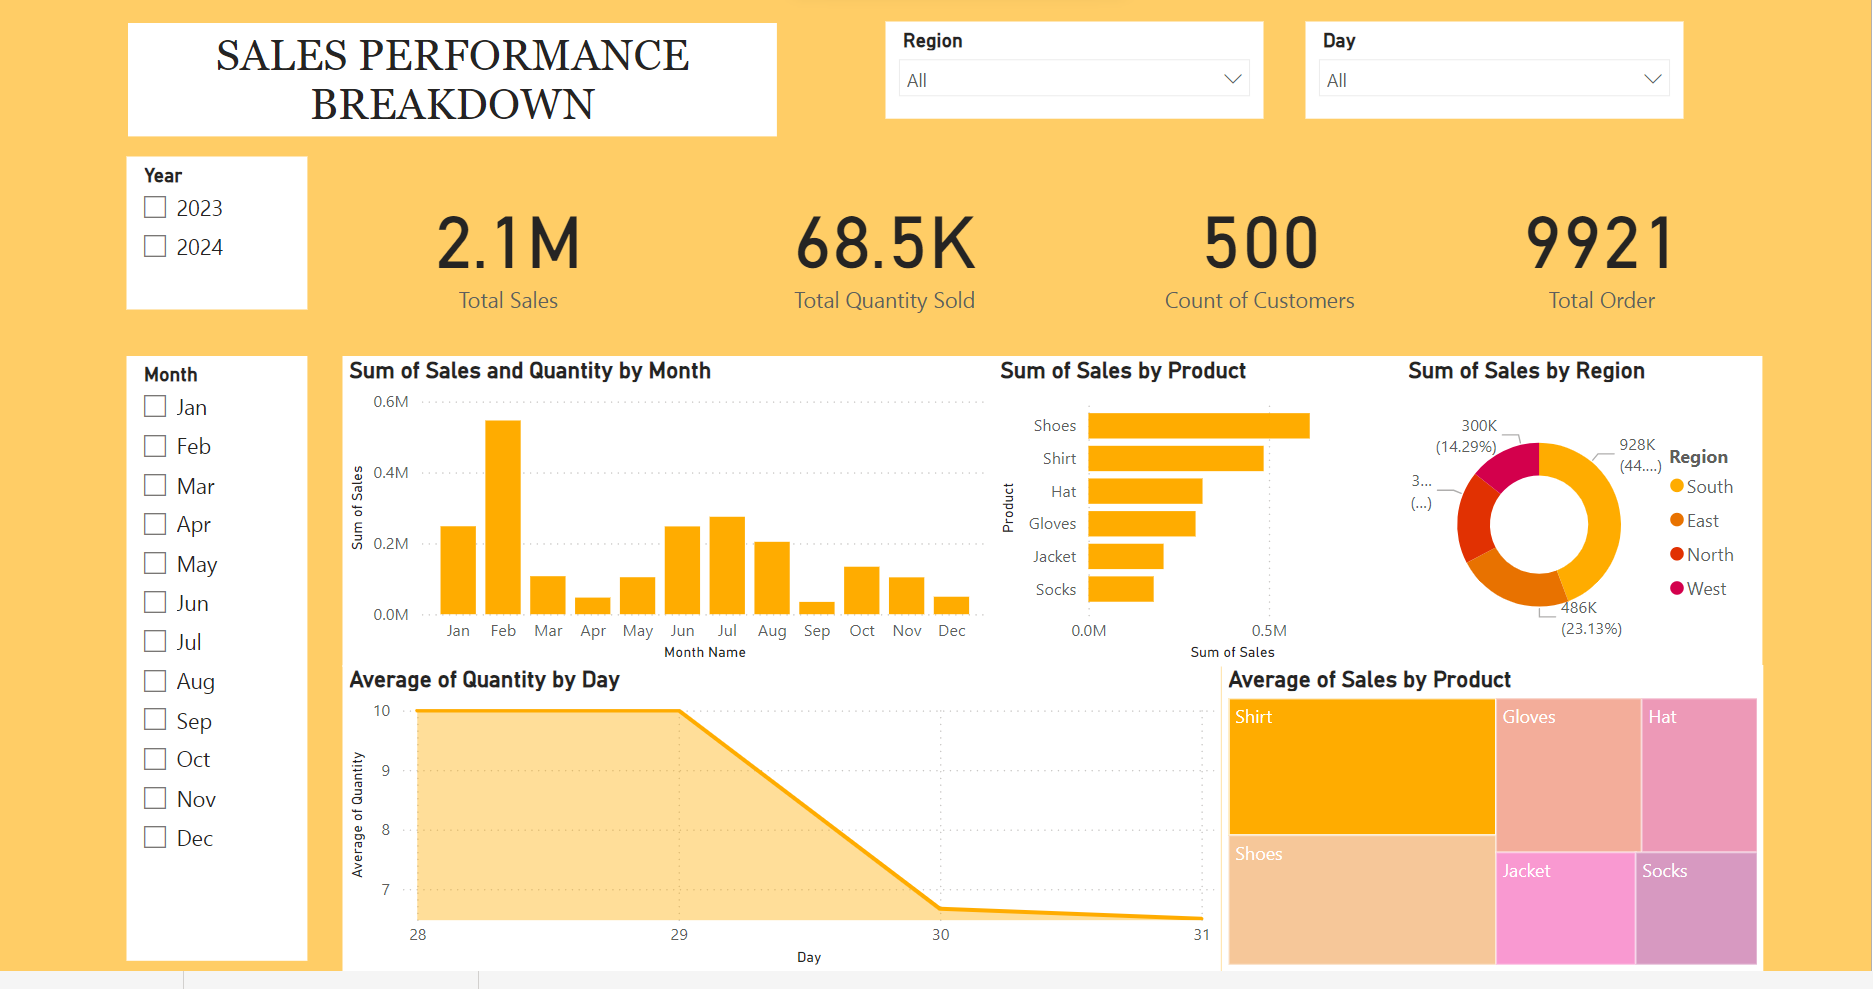

Layout of this report page (visuals, bound fields, positions):
{"tool":"powerbi","page":{"name":"Page 1","canvas":[1280,720],"ordinal":0},"visuals":[{"type":"slicer","fields":{"Values":["SalesData.Year"]},"box":[41.6,117.2,134.2,113.4],"z":0},{"type":"slicer","fields":{"Values":["SalesData.Region"]},"box":[602.8,17,279.7,71.8],"z":1000},{"type":"slicer","fields":{"Values":["SalesData.Day Name"]},"box":[914.6,17,279.7,71.8],"z":2000},{"type":"slicer","fields":{"Values":["SalesData.Month Name"]},"box":[41.6,264.6,134.2,447.9],"z":3000},{"type":"card","fields":{"Values":["SalesData.Sum Total"]},"box":[204.1,117.2,238.1,134.2],"z":4000},{"type":"card","fields":{"Values":["Sum(SalesData.Quantity)"]},"box":[483.8,117.2,238.1,134.2],"z":5000},{"type":"card","fields":{"Values":["Count(SalesData.Customer Id)"]},"box":[761.6,117.2,238.1,134.2],"z":6000},{"type":"card","fields":{"Values":["CountNonNull(SalesData.OrderID)"]},"box":[1014.8,117.2,238.1,134.2],"z":7000},{"type":"columnChart","title":"Sum of Sales and Quantity by Month","fields":{"Category":["SalesData.Month Name"],"Y":["Sum(SalesData.Sales)"]},"box":[200.8,263.9,482.5,229.9],"z":8000},{"type":"clusteredBarChart","fields":{"Category":["SalesData.Product"],"Y":["Sum(SalesData.Sales)"]},"box":[683.3,263.9,302.8,229.9],"z":9000},{"type":"donutChart","fields":{"Category":["SalesData.Region"],"Y":["Sum(SalesData.Sales)"]},"box":[986.1,263.9,267.2,229.9],"z":10000},{"type":"areaChart","fields":{"Category":["SalesData.Day"],"Y":["Avg(SalesData.Quantity)"]},"box":[200.8,493.9,650.9,226.7],"z":11000},{"type":"treemap","fields":{"Group":["SalesData.Product"],"Values":["Avg(SalesData.Sales)"]},"box":[851.7,493.9,401.6,226.7],"z":12000},{"type":"textbox","box":[42.1,17.8,480.9,84.2],"z":13000}]}

Visuals, with their boxes in screenshot pixels (x1, y1, x2, y2):
slicer - SalesData.Year: <box>120,174,302,327</box>
slicer - SalesData.Region: <box>881,38,1260,135</box>
slicer - SalesData.Day Name: <box>1304,38,1683,135</box>
slicer - SalesData.Month Name: <box>120,373,302,981</box>
card - SalesData.Sum Total: <box>340,174,663,356</box>
card - Sum(SalesData.Quantity): <box>720,174,1042,356</box>
card - Count(SalesData.Customer Id): <box>1096,174,1419,356</box>
card - CountNonNull(SalesData.OrderID): <box>1440,174,1763,356</box>
"Sum of Sales and Quantity by Month" columnChart: <box>336,373,990,684</box>
clusteredBarChart - SalesData.Product x Sum(SalesData.Sales): <box>990,373,1401,684</box>
donutChart - SalesData.Region x Sum(SalesData.Sales): <box>1401,373,1763,684</box>
areaChart - SalesData.Day x Avg(SalesData.Quantity): <box>336,684,1218,988</box>
treemap - SalesData.Product x Avg(SalesData.Sales): <box>1218,684,1763,988</box>
textbox: <box>121,39,773,153</box>
